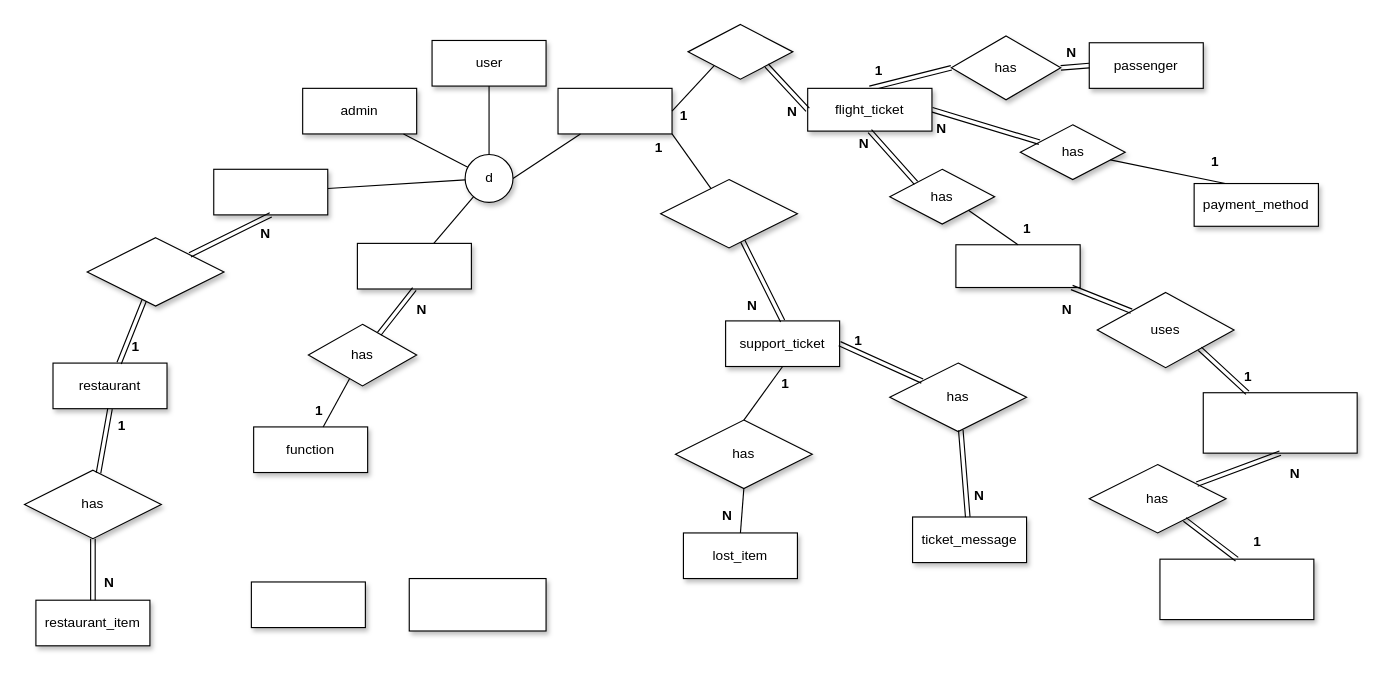
The diagram is 1384 pixels wide and 674 high, and some of its shapes have lost their labels. Each missing label, with the centre of its shape:
"airplane" belongs at (x=1281, y=424).
"airport" belongs at (x=478, y=606).
"buys" belongs at (x=741, y=53).
"client" belongs at (x=615, y=112).
"company" belongs at (x=1237, y=590).
"does" belongs at (x=729, y=215).
"employee" belongs at (x=415, y=267).
"flight" belongs at (x=1018, y=267).
"manager" belongs at (x=271, y=193).
"manages" belongs at (x=156, y=273).
"store" belongs at (x=309, y=606).
